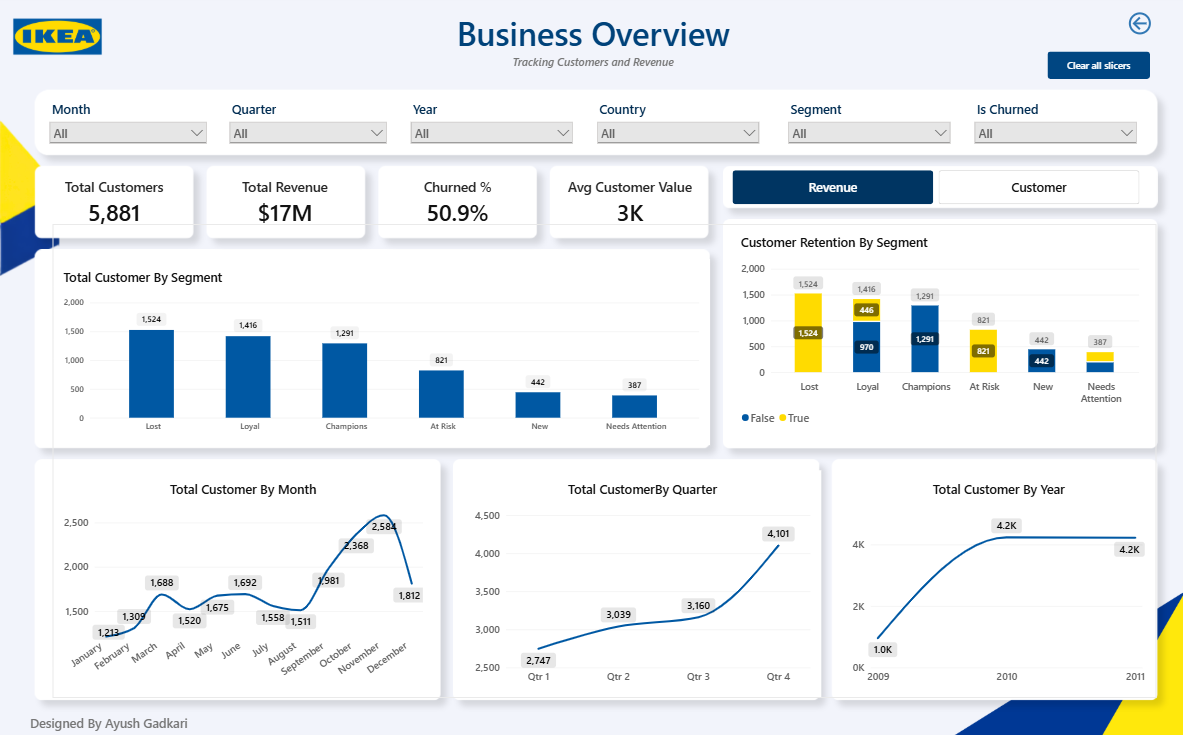

The dashboard page shown, as its layout file describes it:
{"tool":"powerbi","page":{"name":"Overview","canvas":[1750,1100],"ordinal":1},"visuals":[{"type":"cardVisual","fields":{"Data":["Sheet1.Total Customers"]},"box":[68.2,259.9,200.9,95.8],"z":0},{"type":"columnChart","title":"Total Customer By Segment","fields":{"Category":["Sheet1.Segment"],"Y":["Sheet1.Total Customers"]},"box":[78.2,391.5,969.5,274.6],"z":0,"group":"g1"},{"type":"cardVisual","fields":{"Data":["Sheet1.Total Revenue"]},"box":[317,259.9,206.4,95.8],"z":1000},{"type":"columnChart","title":"Customer Retention By Segment","fields":{"Category":["Sheet1.Segment"],"Series":["Sheet1.IsChurned"],"Y":["Sheet1.Total Customers"]},"box":[1076.4,339.1,619.3,317],"z":1000,"group":"g1"},{"type":"cardVisual","fields":{"Data":["Sheet1.Churn %"]},"box":[575.1,259.9,199.1,95.8],"z":2000},{"type":"lineChart","title":"Total Customer By Month","fields":{"Category":["Sheet1.InvoiceMonth.Variation.Date Hierarchy.Month"],"Y":["Sheet1.Total Customers"]},"box":[78.2,703,562.2,335.5],"z":2000,"group":"g1"},{"type":"cardVisual","fields":{"Data":["Sheet1.Avg Customer Value"]},"box":[820.2,259.9,217.5,95.8],"z":3000},{"type":"lineChart","title":"Total CustomerBy Quarter","fields":{"Category":["Sheet1.InvoiceMonth.Variation.Date Hierarchy.Quarter"],"Y":["Sheet1.Total Customers"]},"box":[684.6,703,527.1,335.5],"z":3000,"group":"g1"},{"type":"slicer","fields":{"Values":["Sheet1.InvoiceDate.Variation.Date Hierarchy.Month"]},"box":[68.2,156.7,241.5,92.2],"z":4000},{"type":"lineChart","title":"Total Customer By Year","fields":{"Category":["Sheet1.InvoiceMonth.Variation.Date Hierarchy.Year"],"Y":["Sheet1.Total Customers"]},"box":[1241.2,703,464.5,335.5],"z":4000,"group":"g1"},{"type":"slicer","fields":{"Values":["Sheet1.InvoiceDate.Variation.Date Hierarchy.Quarter"]},"box":[333.6,156.7,241.5,92.2],"z":5000},{"type":"slicer","fields":{"Values":["Sheet1.InvoiceDate.Variation.Date Hierarchy.Year"]},"box":[600.9,156.7,248.8,92.2],"z":6000},{"type":"slicer","fields":{"Values":["Sheet1.Country"]},"box":[875.5,156.7,248.8,92.2],"z":7000},{"type":"slicer","fields":{"Values":["Sheet1.Segment"]},"box":[1157.5,156.7,248.8,92.2],"z":8000},{"type":"slicer","fields":{"Values":["Sheet1.IsChurned"]},"box":[1432.1,156.7,248.8,92.2],"z":9000},{"type":"group","id":"g1","title":"Customer","box":[78.2,339.1,1627.5,699.3],"z":10000},{"type":"bookmarkNavigator","box":[1080.1,259.9,600,50],"z":12000},{"type":"textbox","box":[44.2,1061.7,248.8,38.7],"z":13000},{"type":"image","box":[0,0,169.6,125.3],"z":14000},{"type":"actionButton","box":[1625.7,1.8,110.6,82.9],"z":15000},{"type":"actionButton","box":[1544.6,84.8,151.1,40.5],"z":16000},{"type":"textbox","box":[593.9,24,562.2,101.4],"z":17000}]}

Visuals, with their boxes in screenshot pixels (x1, y1, x2, y2), scaled from the page's 1750x1100 canvas onto the 1183x735 screenshot:
cardVisual - Sheet1.Total Customers: [x1=46, y1=174, x2=182, y2=238]
"Total Customer By Segment" columnChart: [x1=53, y1=262, x2=708, y2=445]
cardVisual - Sheet1.Total Revenue: [x1=214, y1=174, x2=354, y2=238]
"Customer Retention By Segment" columnChart: [x1=728, y1=227, x2=1146, y2=438]
cardVisual - Sheet1.Churn %: [x1=389, y1=174, x2=523, y2=238]
"Total Customer By Month" lineChart: [x1=53, y1=470, x2=433, y2=694]
cardVisual - Sheet1.Avg Customer Value: [x1=554, y1=174, x2=701, y2=238]
"Total CustomerBy Quarter" lineChart: [x1=463, y1=470, x2=819, y2=694]
slicer - Sheet1.InvoiceDate.Variation.Date Hierarchy.Month: [x1=46, y1=105, x2=209, y2=166]
"Total Customer By Year" lineChart: [x1=839, y1=470, x2=1153, y2=694]
slicer - Sheet1.InvoiceDate.Variation.Date Hierarchy.Quarter: [x1=226, y1=105, x2=389, y2=166]
slicer - Sheet1.InvoiceDate.Variation.Date Hierarchy.Year: [x1=406, y1=105, x2=574, y2=166]
slicer - Sheet1.Country: [x1=592, y1=105, x2=760, y2=166]
slicer - Sheet1.Segment: [x1=782, y1=105, x2=951, y2=166]
slicer - Sheet1.IsChurned: [x1=968, y1=105, x2=1136, y2=166]
"Customer" group: [x1=53, y1=227, x2=1153, y2=694]
bookmarkNavigator: [x1=730, y1=174, x2=1136, y2=207]
textbox: [x1=30, y1=709, x2=198, y2=734]
image: [x1=0, y1=0, x2=115, y2=84]
actionButton: [x1=1099, y1=1, x2=1174, y2=57]
actionButton: [x1=1044, y1=57, x2=1146, y2=84]
textbox: [x1=401, y1=16, x2=782, y2=84]
